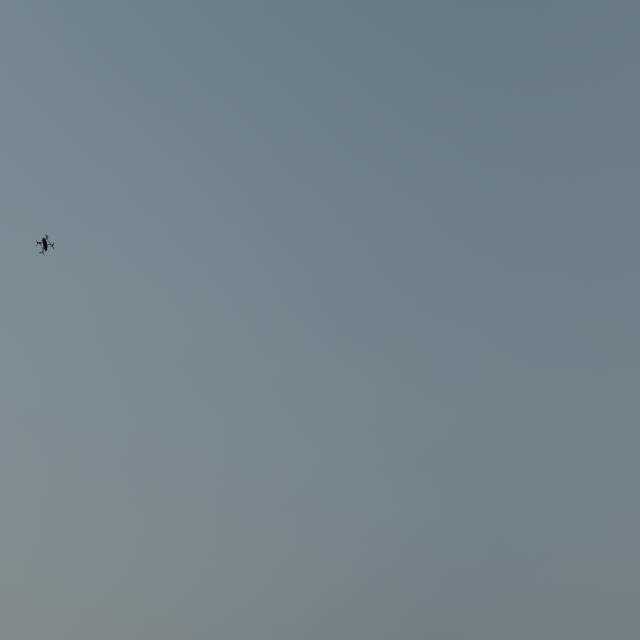drone: (36, 234, 54, 256)
